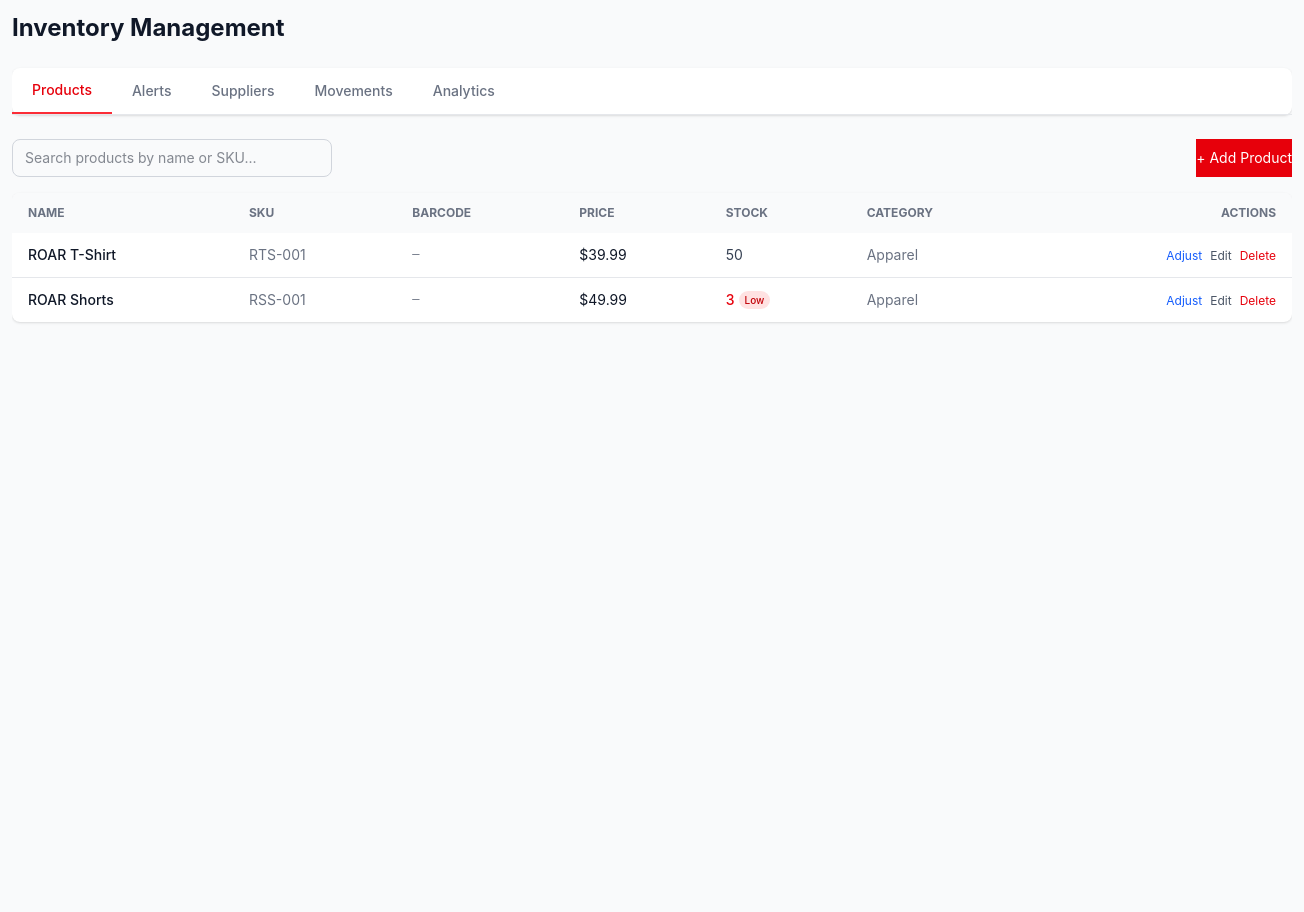
it: InventoryManagement › ProductList › opens add product form on button click
Expected: the text "ROAR T-Shirt" is shown, top-left (28, 246), bottom-right (116, 263)
Click the button "+ Add Product" at (1244, 158), box top-left (1196, 139), bottom-right (1292, 177)
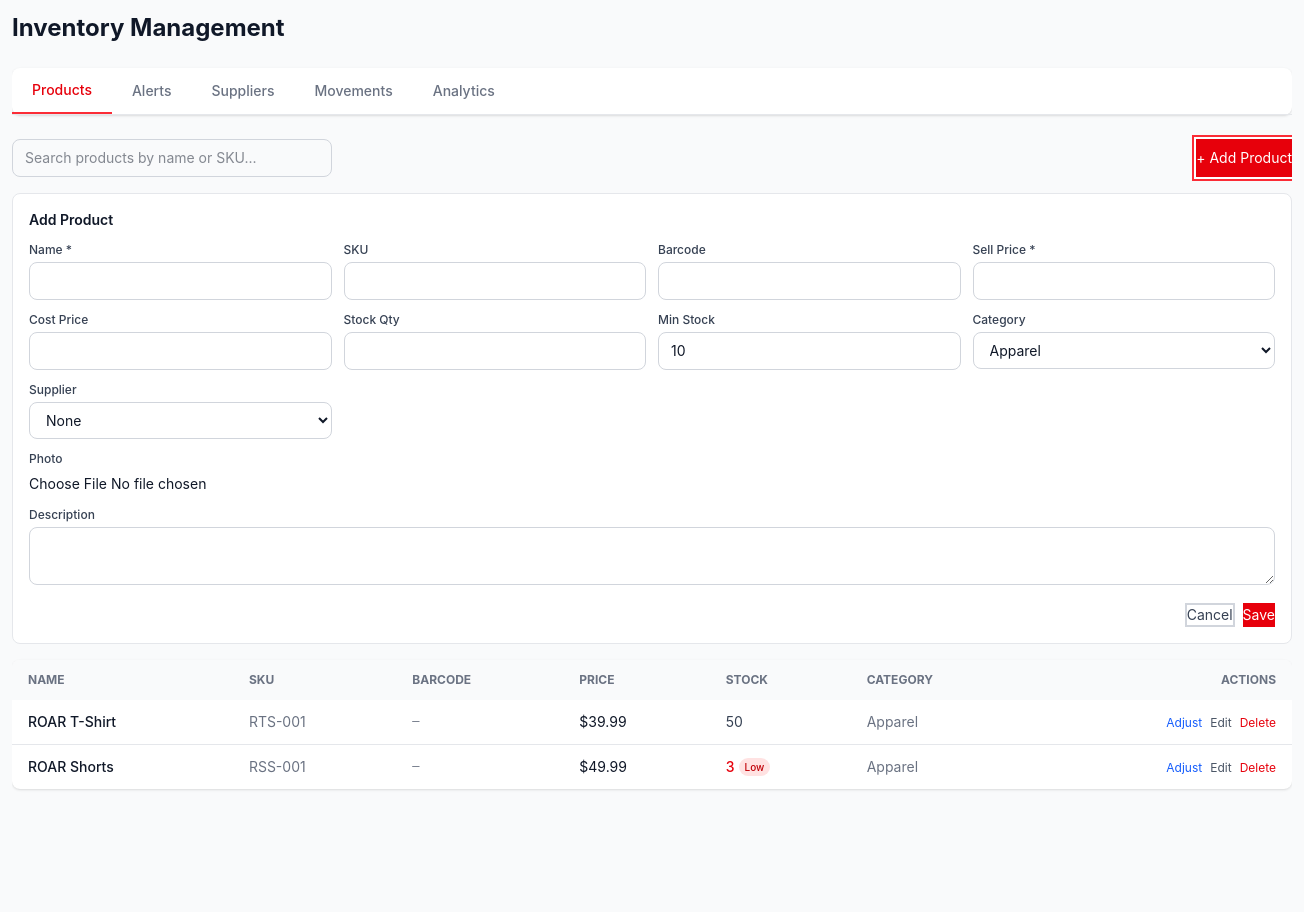
Expected: the heading "Add Product" is shown, top-left (29, 211), bottom-right (113, 228)
Expected: the button "Cancel" is shown, top-left (1185, 603), bottom-right (1235, 627)
Expected: the button "Save" is shown, top-left (1243, 603), bottom-right (1275, 627)
